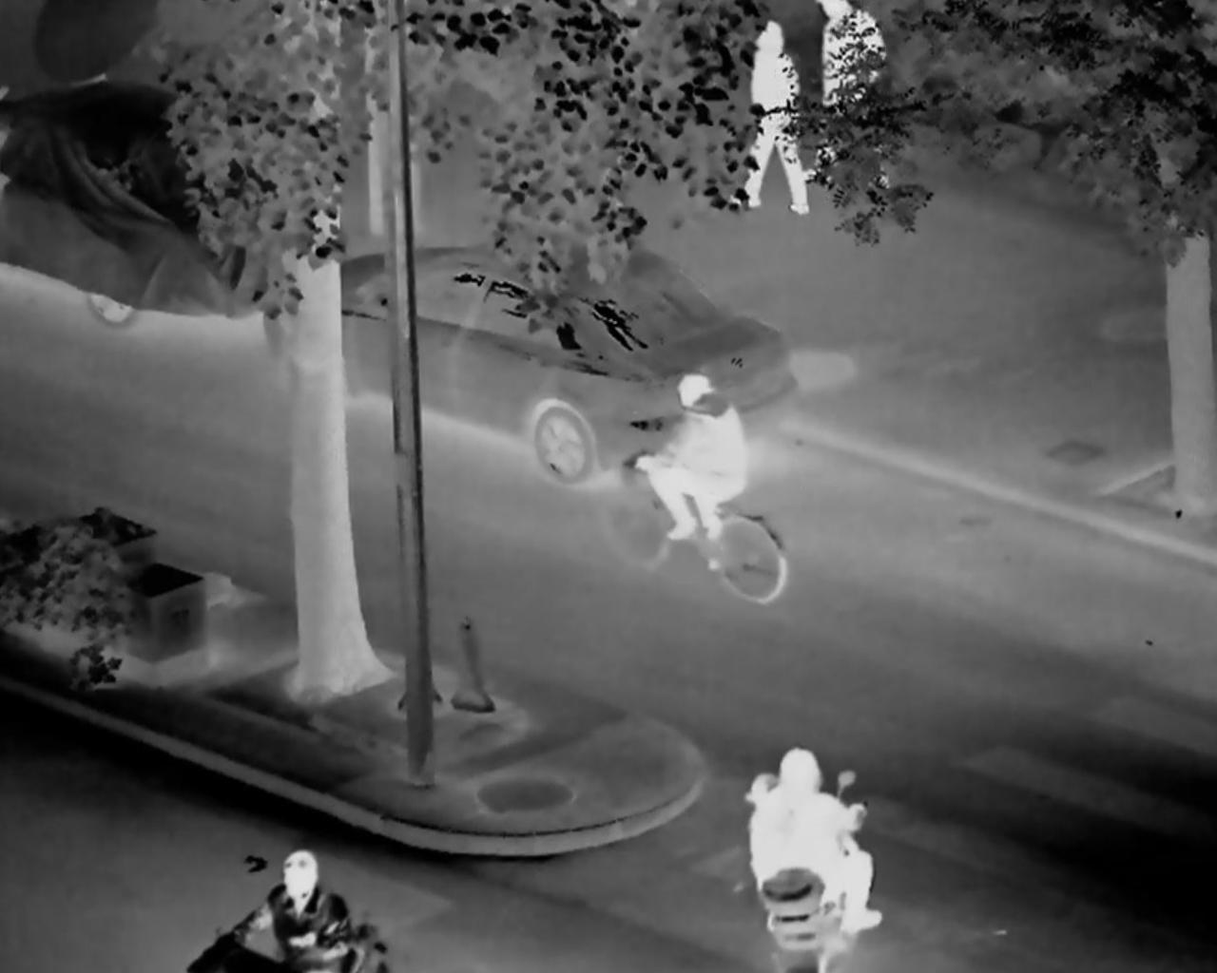person: (733, 743, 890, 963), (614, 367, 748, 555), (706, 10, 811, 217), (223, 846, 374, 973), (810, 2, 895, 186)
